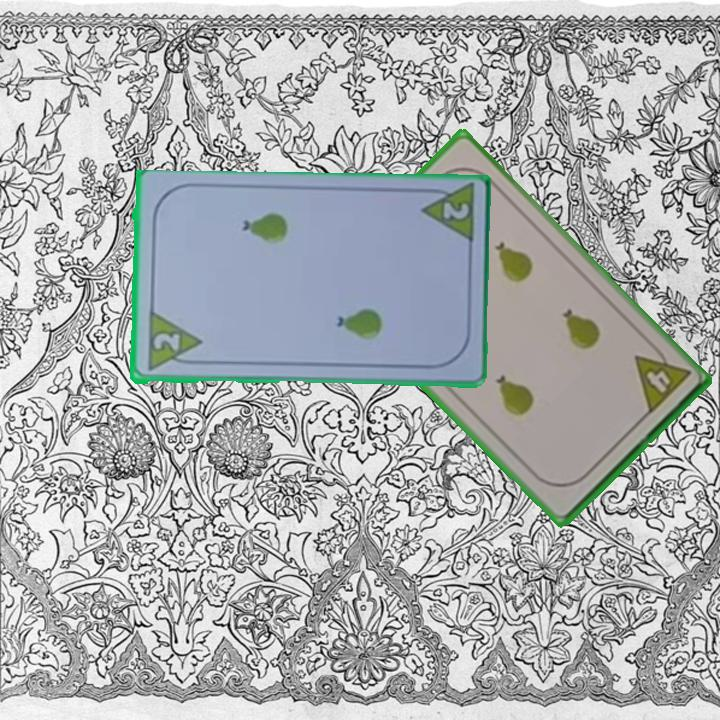2p: (416, 183, 477, 248), (144, 310, 203, 375)
4p: (630, 339, 693, 418)
